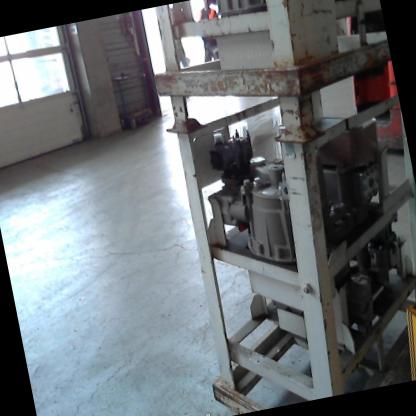pallet_truck: (323, 0, 408, 162)
